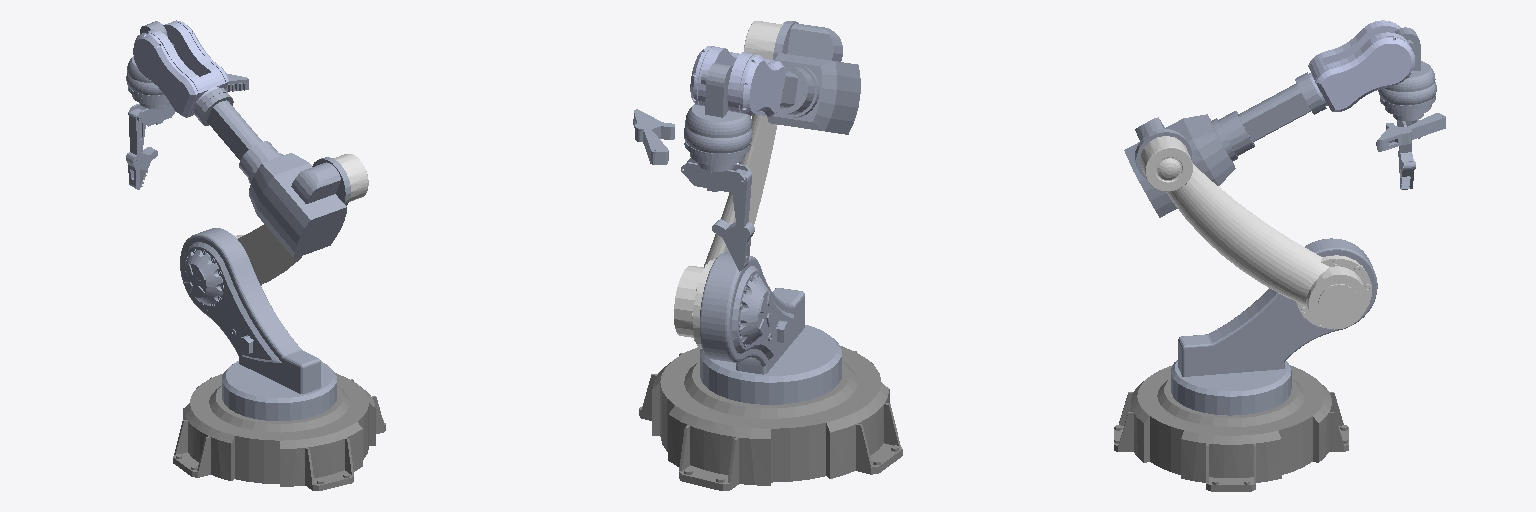
The robot description file, URDF, robot "Assem1":
<?xml version="1.0" encoding="utf-8"?>
<!-- This URDF was automatically created by SolidWorks to URDF Exporter! Originally created by [author] ([email redacted]) 
     Commit Version: 1.6.0-4-g7f85cfe  Build Version: 1.6.7995.38578
     For more information, please see http://wiki.ros.org/sw_urdf_exporter -->
<robot
  name="Assem1">
  <link
    name="base_link">
    <inertial>
      <origin
        xyz="0.121046763477735 0.151940637456914 0.285837338943906"
        rpy="0 0 0" />
      <mass
        value="5.51043299491621" />
      <inertia
        ixx="0.0325325116702204"
        ixy="1.36727792214883E-18"
        ixz="-5.77203012524323E-17"
        iyy="0.0589048225198257"
        iyz="5.94475935131385E-18"
        izz="0.0325325116702204" />
    </inertial>
    <visual>
      <origin
        xyz="0 0 0"
        rpy="0 0 0" />
      <geometry>
        <mesh
          filename="package://arm/meshes/base_link.STL" />
      </geometry>
      <material
        name="">
        <color
          rgba="0.6 0.6 0.6 1" />
      </material>
    </visual>
    <collision>
      <origin
        xyz="0 0 0"
        rpy="0 0 0" />
      <geometry>
        <mesh
          filename="package://arm/meshes/base_link.STL" />
      </geometry>
    </collision>
  </link>
  <link
    name="link1">
    <inertial>
      <origin
        xyz="-0.0563146043567339 0.0813964891053229 0.00239652329908495"
        rpy="0 0 0" />
      <mass
        value="2.25493350096987" />
      <inertia
        ixx="0.0116076379162407"
        ixy="0.00887971484912355"
        ixz="0.000401686650627847"
        iyy="0.0158798756899825"
        iyz="-0.000351049380153973"
        izz="0.0231563669188204" />
    </inertial>
    <visual>
      <origin
        xyz="0 0 0"
        rpy="0 0 0" />
      <geometry>
        <mesh
          filename="package://arm/meshes/link1.STL" />
      </geometry>
      <material
        name="">
        <color
          rgba="0.666666666666667 0.698039215686274 0.768627450980392 1" />
      </material>
    </visual>
    <collision>
      <origin
        xyz="0 0 0"
        rpy="0 0 0" />
      <geometry>
        <mesh
          filename="package://arm/meshes/link1.STL" />
      </geometry>
    </collision>
  </link>
  <joint
    name="joint1"
    type="fixed">
    <origin
      xyz="0.121046763477735 -0.285837338943906 0.197313597546825"
      rpy="1.5707963267949 0 -1.38459586714431" />
    <parent
      link="base_link" />
    <child
      link="link1" />
    <axis
      xyz="0 0 0" />
  </joint>
  <link
    name="link2">
    <inertial>
      <origin
        xyz="-0.142663403156673 0.0152228198054035 0.00806018930312294"
        rpy="0 0 0" />
      <mass
        value="0.920710305299373" />
      <inertia
        ixx="0.000614866050162195"
        ixy="-7.16287521655013E-05"
        ixz="0.000152423141181317"
        iyy="0.0182052989184288"
        iyz="3.03742949148828E-05"
        izz="0.0178613022406908" />
    </inertial>
    <visual>
      <origin
        xyz="0 0 0"
        rpy="0 0 0" />
      <geometry>
        <mesh
          filename="package://arm/meshes/link2.STL" />
      </geometry>
      <material
        name="">
        <color
          rgba="0.898039215686275 0.898039215686275 0.898039215686275 1" />
      </material>
    </visual>
    <collision>
      <origin
        xyz="0 0 0"
        rpy="0 0 0" />
      <geometry>
        <mesh
          filename="package://arm/meshes/link2.STL" />
      </geometry>
    </collision>
  </link>
  <joint
    name="joint2"
    type="revolute">
    <origin
      xyz="-0.150000000000001 0.16 -0.02"
      rpy="-1.5707963267949 0 -2.38897231765684" />
    <parent
      link="link1" />
    <child
      link="link2" />
    <axis
      xyz="0 0 0" />
  </joint>
  <link
    name="link3">
    <inertial>
      <origin
        xyz="0.00538331055455715 -0.00508437353022007 0.00146278329110827"
        rpy="0 0 0" />
      <mass
        value="1.43146260772506" />
      <inertia
        ixx="0.00186636966001071"
        ixy="0.000324747623278668"
        ixz="-9.34132533564527E-05"
        iyy="0.00807676440931879"
        iyz="0.000112858949971255"
        izz="0.00844554646583347" />
    </inertial>
    <visual>
      <origin
        xyz="0 0 0"
        rpy="0 0 0" />
      <geometry>
        <mesh
          filename="package://arm/meshes/link3.STL" />
      </geometry>
      <material
        name="">
        <color
          rgba="0.666666666666667 0.698039215686274 0.768627450980392 1" />
      </material>
    </visual>
    <collision>
      <origin
        xyz="0 0 0"
        rpy="0 0 0" />
      <geometry>
        <mesh
          filename="package://arm/meshes/link3.STL" />
      </geometry>
    </collision>
  </link>
  <joint
    name="joint3"
    type="revolute">
    <origin
      xyz="-0.290305042882929 -0.0475000000000003 -0.0310082584933766"
      rpy="1.5707963267949 -1.21189757589006 3.14159265358979" />
    <parent
      link="link2" />
    <child
      link="link3" />
    <axis
      xyz="0 0 0" />
  </joint>
  <link
    name="link4">
    <inertial>
      <origin
        xyz="-0.0659648913117669 -4.8796078289115E-10 -1.10951992038366E-09"
        rpy="0 0 0" />
      <mass
        value="0.581435304453433" />
      <inertia
        ixx="0.00059652401434061"
        ixy="-1.05373364791802E-11"
        ixz="-3.09919140792868E-11"
        iyy="0.00158017073492887"
        iyz="-2.36731285067199E-10"
        izz="0.00140634607897422" />
    </inertial>
    <visual>
      <origin
        xyz="0 0 0"
        rpy="0 0 0" />
      <geometry>
        <mesh
          filename="package://arm/meshes/link4.STL" />
      </geometry>
      <material
        name="">
        <color
          rgba="0.792156862745098 0.819607843137255 0.933333333333333 1" />
      </material>
    </visual>
    <collision>
      <origin
        xyz="0 0 0"
        rpy="0 0 0" />
      <geometry>
        <mesh
          filename="package://arm/meshes/link4.STL" />
      </geometry>
    </collision>
  </link>
  <joint
    name="joint4"
    type="continuous">
    <origin
      xyz="-0.200999999999998 0 0"
      rpy="-3.10243696229549 0 0" />
    <parent
      link="link3" />
    <child
      link="link4" />
    <axis
      xyz="0 0 0" />
  </joint>
  <link
    name="link5">
    <inertial>
      <origin
        xyz="-0.000178318239085762 -1.11022302462516E-16 0.0169618551287792"
        rpy="0 0 0" />
      <mass
        value="0.339144547925523" />
      <inertia
        ixx="0.000358769992191287"
        ixy="2.03287907341032E-20"
        ixz="-3.56575702010588E-06"
        iyy="0.000355541202477726"
        iyz="2.77826806699411E-19"
        izz="0.000248853470602005" />
    </inertial>
    <visual>
      <origin
        xyz="0 0 0"
        rpy="0 0 0" />
      <geometry>
        <mesh
          filename="package://arm/meshes/link5.STL" />
      </geometry>
      <material
        name="">
        <color
          rgba="0.666666666666667 0.698039215686274 0.768627450980392 1" />
      </material>
    </visual>
    <collision>
      <origin
        xyz="0 0 0"
        rpy="0 0 0" />
      <geometry>
        <mesh
          filename="package://arm/meshes/link5.STL" />
      </geometry>
    </collision>
  </link>
  <joint
    name="joint5"
    type="continuous">
    <origin
      xyz="-0.127684604956799 -0.0380953376087066 -0.000499999999999598"
      rpy="2.00541220615079 -1.5707963267949 0" />
    <parent
      link="link4" />
    <child
      link="link5" />
    <axis
      xyz="0 0 0" />
  </joint>
  <link
    name="link6">
    <inertial>
      <origin
        xyz="-0.0062847062070423 1.11022302462516E-16 0"
        rpy="0 0 0" />
      <mass
        value="0.0762574810565131" />
      <inertia
        ixx="3.99525744954328E-05"
        ixy="-6.7762635780344E-21"
        ixz="-2.15993401549847E-20"
        iyy="3.7955979870062E-05"
        iyz="-3.59989002583078E-21"
        izz="3.20288004196063E-05" />
    </inertial>
    <visual>
      <origin
        xyz="0 0 0"
        rpy="0 0 0" />
      <geometry>
        <mesh
          filename="package://arm/meshes/link6.STL" />
      </geometry>
      <material
        name="">
        <color
          rgba="0.666666666666667 0.698039215686274 0.768627450980392 1" />
      </material>
    </visual>
    <collision>
      <origin
        xyz="0 0 0"
        rpy="0 0 0" />
      <geometry>
        <mesh
          filename="package://arm/meshes/link6.STL" />
      </geometry>
    </collision>
  </link>
  <joint
    name="joint6"
    type="continuous">
    <origin
      xyz="0 0 0.0619999999999991"
      rpy="1.00343299394738 1.57079631189374 1.00343299394738" />
    <parent
      link="link5" />
    <child
      link="link6" />
    <axis
      xyz="0 0 0" />
  </joint>
  <link
    name="link7">
    <inertial>
      <origin
        xyz="-0.000171695716224329 -0.0477938544830668 -0.0357274171480665"
        rpy="0 0 0" />
      <mass
        value="0.0459845756601323" />
      <inertia
        ixx="6.09315616899348E-05"
        ixy="-1.06736207403593E-07"
        ixz="-4.51740345701921E-08"
        iyy="1.95971154056263E-05"
        iyz="-2.31066868313527E-05"
        izz="4.38592111632923E-05" />
    </inertial>
    <visual>
      <origin
        xyz="0 0 0"
        rpy="0 0 0" />
      <geometry>
        <mesh
          filename="package://arm/meshes/link7.STL" />
      </geometry>
      <material
        name="">
        <color
          rgba="0.666666666666667 0.698039215686274 0.768627450980392 1" />
      </material>
    </visual>
    <collision>
      <origin
        xyz="0 0 0"
        rpy="0 0 0" />
      <geometry>
        <mesh
          filename="package://arm/meshes/link7.STL" />
      </geometry>
    </collision>
  </link>
  <joint
    name="joint7"
    type="continuous">
    <origin
      xyz="-0.0236317279836453 0 0.0401317279836453"
      rpy="-0.528498821446243 0 -1.5707963267949" />
    <parent
      link="link6" />
    <child
      link="link7" />
    <axis
      xyz="1 0 0" />
  </joint>
  <link
    name="link8">
    <inertial>
      <origin
        xyz="-0.000171695716225106 -0.0477938544830668 -0.0357274171480664"
        rpy="0 0 0" />
      <mass
        value="0.0459845756601324" />
      <inertia
        ixx="6.0931561689935E-05"
        ixy="-1.06736207403785E-07"
        ixz="-4.51740345702874E-08"
        iyy="1.95971154056263E-05"
        iyz="-2.31066868313527E-05"
        izz="4.38592111632925E-05" />
    </inertial>
    <visual>
      <origin
        xyz="0 0 0"
        rpy="0 0 0" />
      <geometry>
        <mesh
          filename="package://arm/meshes/link8.STL" />
      </geometry>
      <material
        name="">
        <color
          rgba="0.666666666666667 0.698039215686274 0.768627450980392 1" />
      </material>
    </visual>
    <collision>
      <origin
        xyz="0 0 0"
        rpy="0 0 0" />
      <geometry>
        <mesh
          filename="package://arm/meshes/link8.STL" />
      </geometry>
    </collision>
  </link>
  <joint
    name="joint8"
    type="continuous">
    <origin
      xyz="0 0.0404718479582238 -0.0693127108592614"
      rpy="2.08399271792142 0 -3.14159265358979" />
    <parent
      link="link6" />
    <child
      link="link8" />
    <axis
      xyz="1 0 0" />
  </joint>
</robot>

--- Render facts (derived) ---
Views: 3 orthographic renders of the robot side by side, from view 1: azimuth 30°, elevation 25°; view 2: azimuth 150°, elevation 25°; view 3: azimuth 270°, elevation 25°.
Model Assem1 with 9 links and 8 joints (2 revolute, 5 continuous, 1 fixed), rooted at base_link, posed all joints at 0.
Links seen in each view (by area): view 1: base_link, link1, link3, link4, link2, link7, link5, link6; view 2: base_link, link1, link3, link2, link4, link5, link7, link6, link8; view 3: base_link, link2, link1, link3, link4, link5, link8, link7.
Link boxes in pixels (left/top/right/bottom): base_link: left=173, top=373, right=385, bottom=490; link1: left=180, top=228, right=336, bottom=420; link3: left=194, top=88, right=350, bottom=258; link4: left=133, top=20, right=228, bottom=117; link2: left=232, top=154, right=368, bottom=285; link7: left=126, top=108, right=157, bottom=189; link5: left=126, top=21, right=167, bottom=99; link6: left=128, top=95, right=175, bottom=126; base_link: left=639, top=346, right=902, bottom=490; link1: left=700, top=252, right=841, bottom=404; link3: left=767, top=21, right=860, bottom=134; link2: left=674, top=21, right=781, bottom=348; link4: left=690, top=46, right=786, bottom=116; link5: left=684, top=63, right=752, bottom=158; link7: left=712, top=169, right=754, bottom=271; link6: left=681, top=153, right=751, bottom=192; link8: left=633, top=109, right=674, bottom=164; base_link: left=1114, top=365, right=1348, bottom=491; link2: left=1140, top=136, right=1371, bottom=329; link1: left=1171, top=238, right=1377, bottom=415; link3: left=1124, top=72, right=1326, bottom=217; link4: left=1308, top=20, right=1414, bottom=111; link5: left=1378, top=27, right=1436, bottom=109; link8: left=1376, top=113, right=1445, bottom=151; link7: left=1398, top=121, right=1415, bottom=189.
Size in the robot's own frame: 0.35 by 0.495 by 0.6451 metres.
Meshes: 9 distinct files referenced, 9 mesh visuals loaded (9 binary STL).
